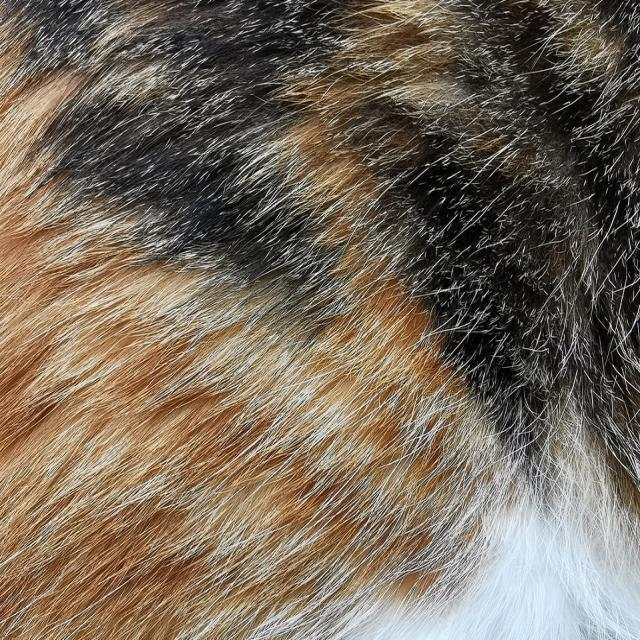Healthy skin: (66, 32, 321, 351), (66, 406, 461, 592), (363, 52, 595, 366)
